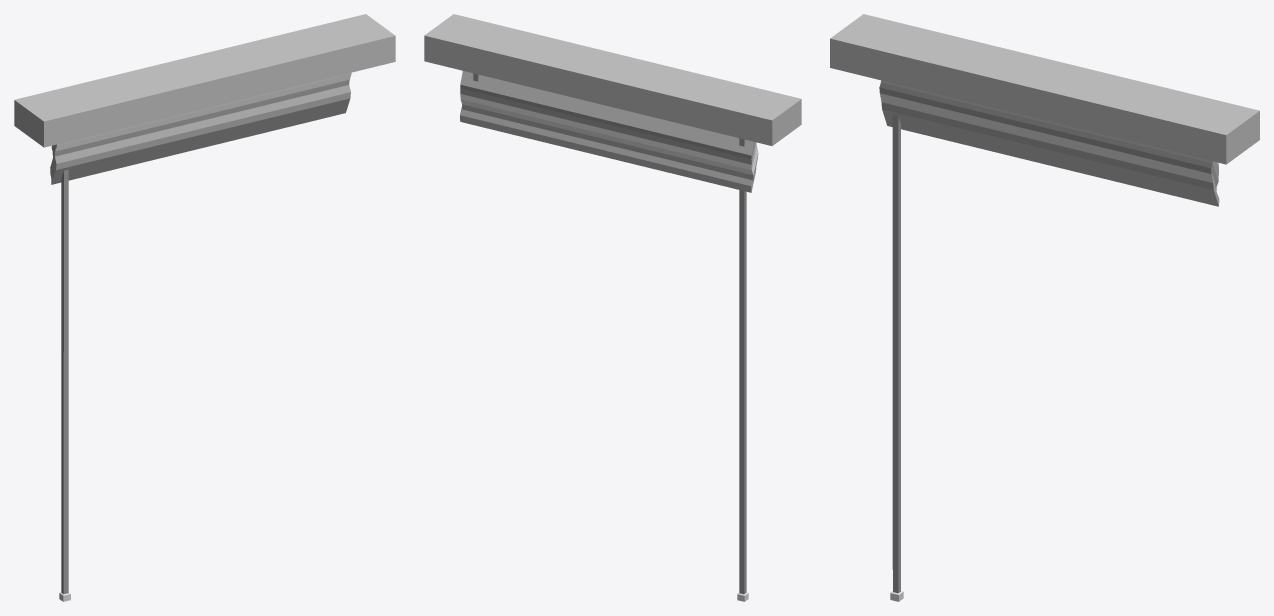
The model's file is SM_Bld_House_Window_Blinds_Closed_01.fbx.
The picture shows the model from 3 angles, left to right: view 1: azimuth 30°, elevation 25°; view 2: azimuth 150°, elevation 25°; view 3: azimuth 330°, elevation 25°; orthographic projection. The views are drawn at different scales.
Visible parts, largest first — view 1: SM_Bld_House_Window_Blinds_Closed_01; view 2: SM_Bld_House_Window_Blinds_Closed_01; view 3: SM_Bld_House_Window_Blinds_Closed_01.
Boxes of the visible parts, x1,y1,x2,y2 form: SM_Bld_House_Window_Blinds_Closed_01: (14,14,395,601); SM_Bld_House_Window_Blinds_Closed_01: (424,14,801,601); SM_Bld_House_Window_Blinds_Closed_01: (830,14,1259,601).
Size of the model in its own units: 111 by 151 by 16.27.
